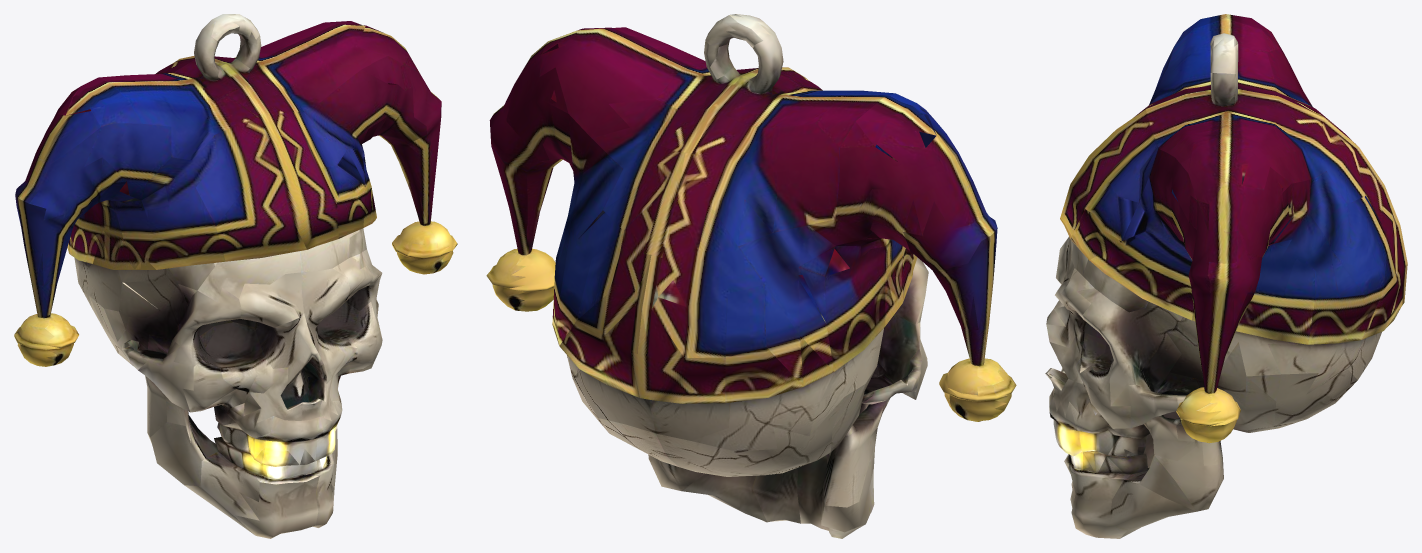
Rendered from gallows_humor.glb.
The picture shows the model from 3 angles, left to right: view 1: azimuth 30°, elevation 25°; view 2: azimuth 150°, elevation 25°; view 3: azimuth 270°, elevation 25°; orthographic projection. The views are drawn at different scales.
Bounding box in the file's own units: 0.9707 × 1 × 0.6758.
1 material, 1 textured.
